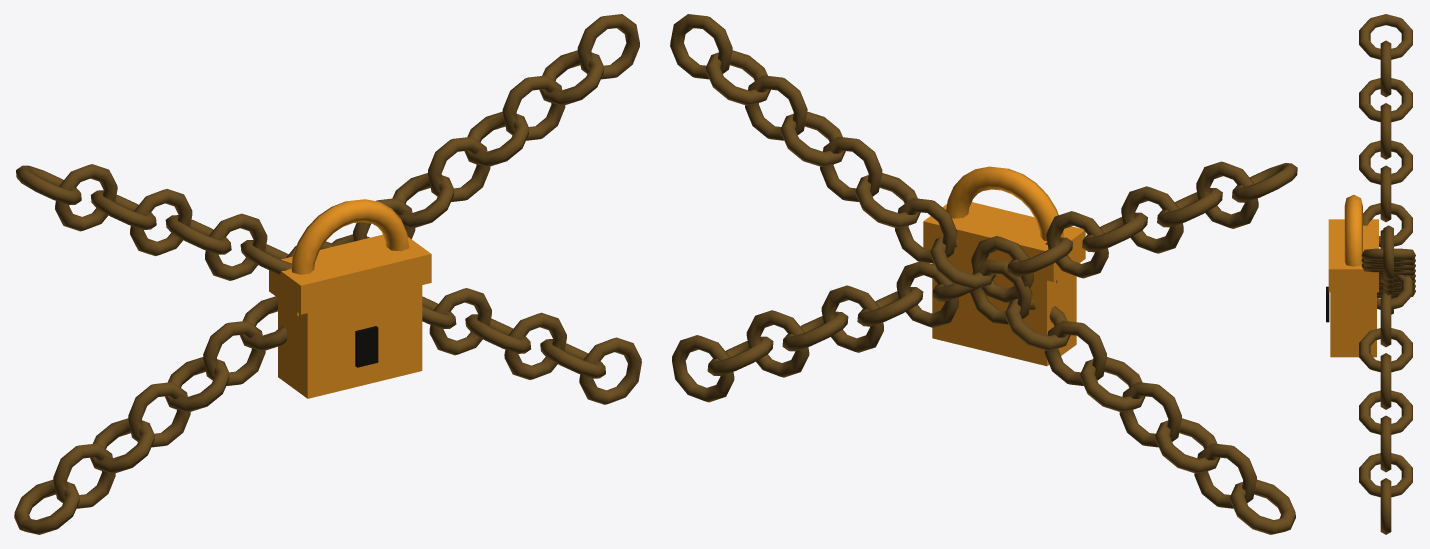
Rendered from stage_gate_lock.obj.
The picture shows the model from 3 angles, left to right: view 1: azimuth 30°, elevation 25°; view 2: azimuth 150°, elevation 25°; view 3: azimuth 270°, elevation 25°; orthographic projection. The views are drawn at different scales.
Parts seen in each view (by area): view 1: stage_gate_lock; view 2: stage_gate_lock; view 3: stage_gate_lock.
Boxes of the visible parts, <box> form: stage_gate_lock: <box>14,14,641,534</box>; stage_gate_lock: <box>670,14,1297,534</box>; stage_gate_lock: <box>1326,14,1415,534</box>.
Bounding box in the file's own units: 3.14 × 1.87 × 0.5002.
